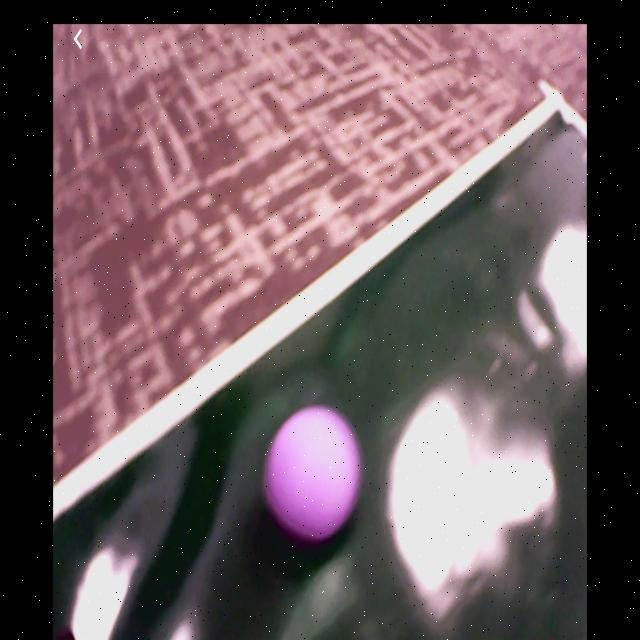ball: (267, 410, 362, 541)
